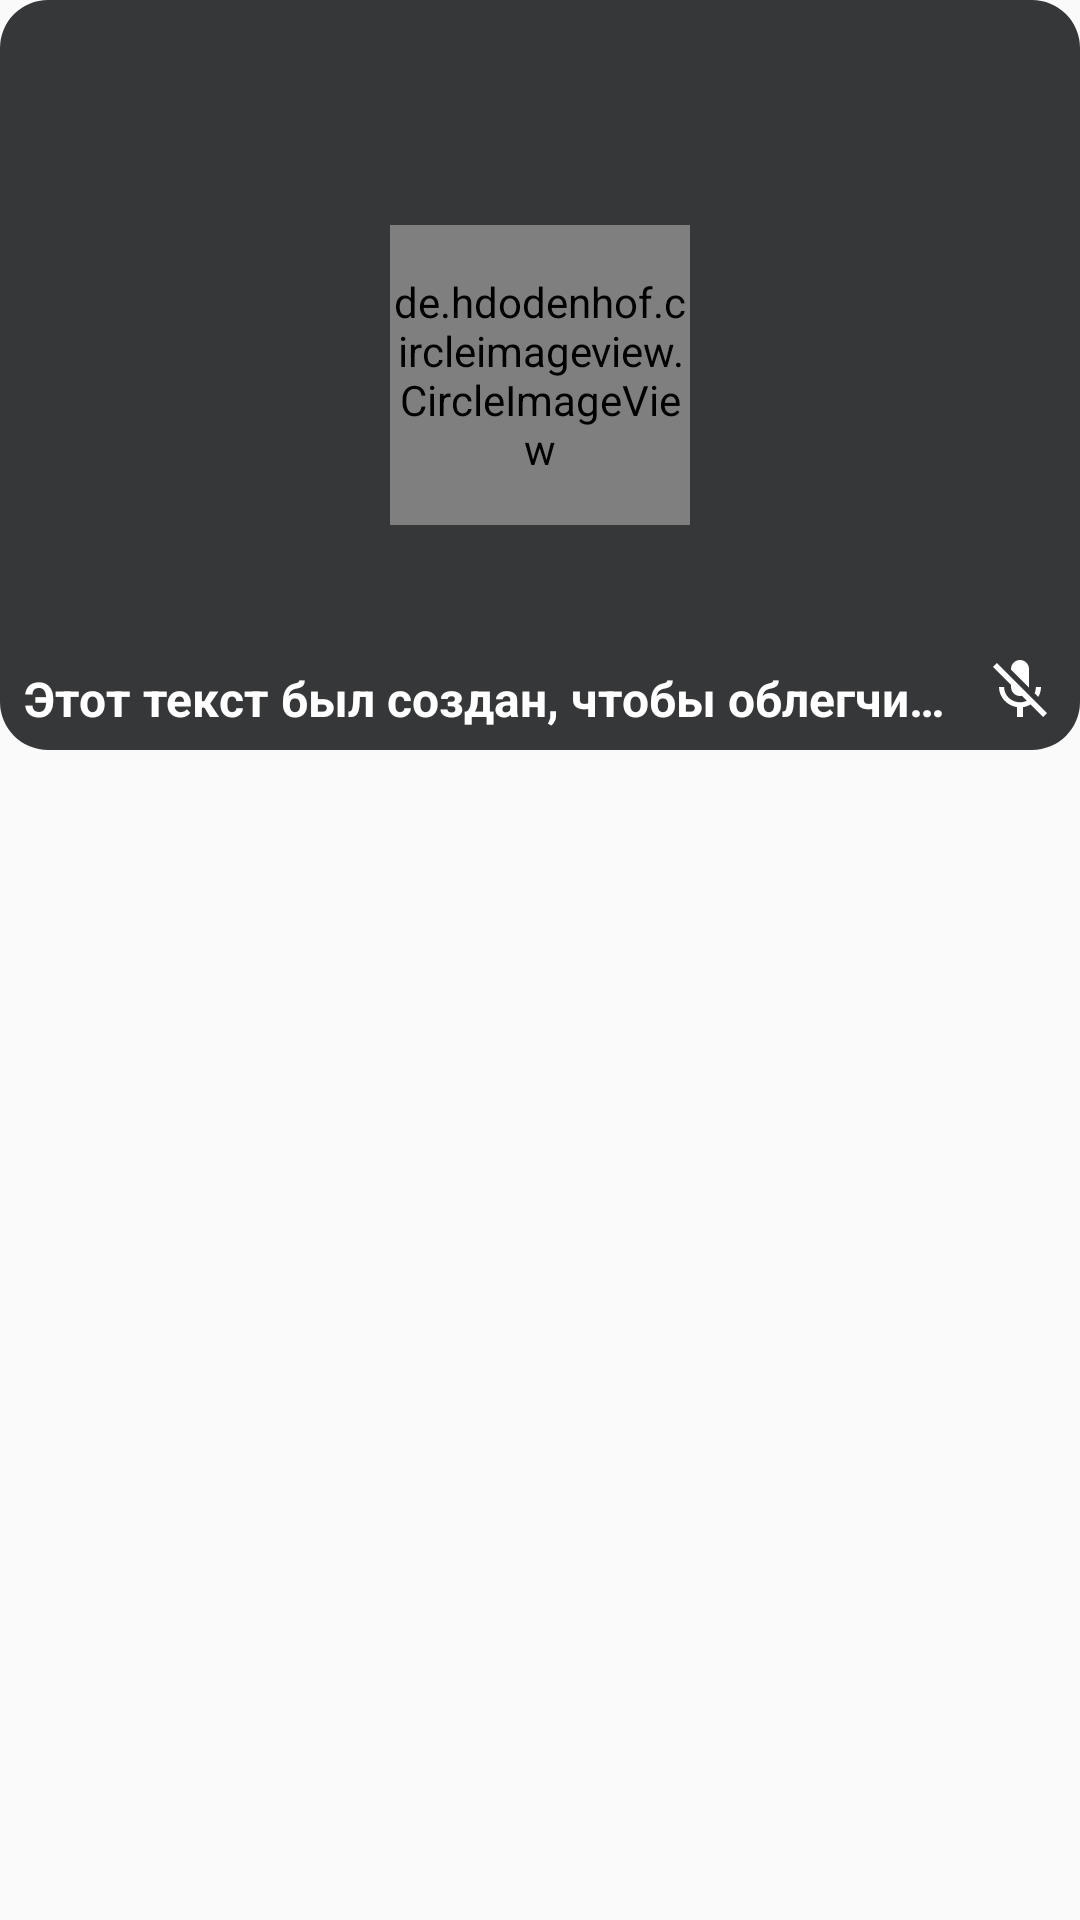

Icons on this 1080w x 1920h Android screen, each with its box as (x1, y1, x2, y2):
microphone off: (993, 660, 1047, 717)
